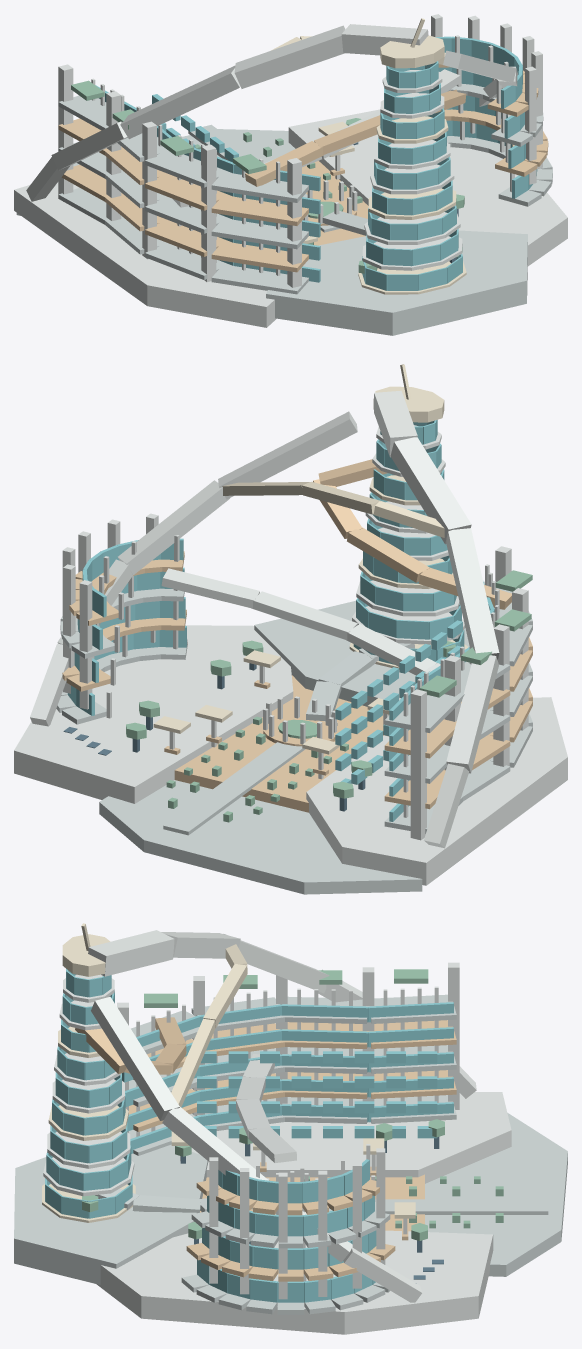
File: a38_urban_weave.glb
3 renders of one model, top to bottom at view 1: azimuth 30°, elevation 25°; view 2: azimuth 150°, elevation 25°; view 3: azimuth 270°, elevation 25°, orthographic. The views are drawn at different scales.
Size of the model in its own units: 406 by 261 by 422.
